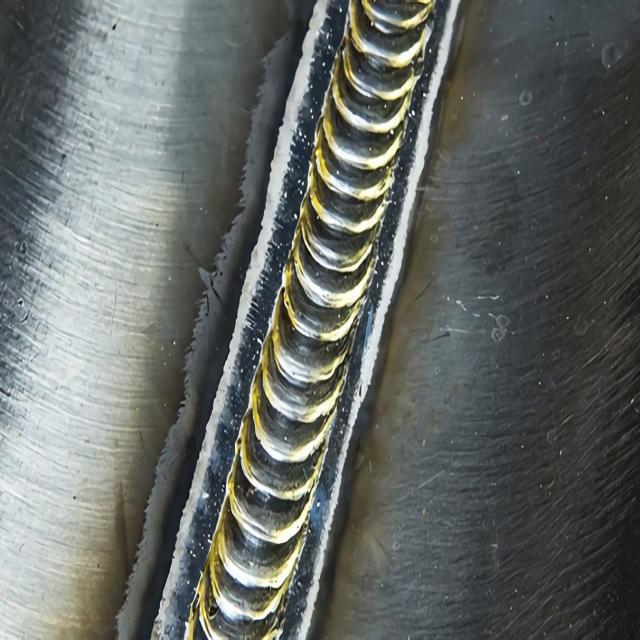Good Welding: (190, 290, 308, 638), (289, 22, 380, 304)
